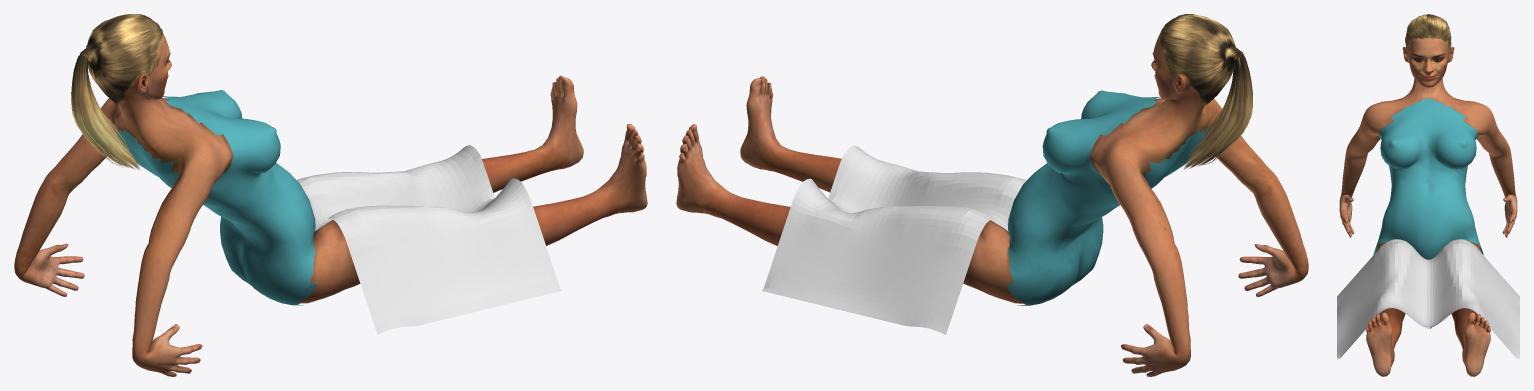
The model's file is kundin_up_k9.glb.
3 renders of one model, left to right at view 1: azimuth 30°, elevation 25°; view 2: azimuth 150°, elevation 25°; view 3: azimuth 270°, elevation 25°, orthographic. The views are drawn at different scales.
Parts seen in each view (by area): view 1: body, robe, top, hair; view 2: body, robe, top, hair; view 3: robe, top, body, hair.
Boxes of the visible parts, bbox=[...] form: body: bbox=[14, 33, 647, 376]; robe: bbox=[297, 145, 561, 334]; top: bbox=[115, 90, 316, 305]; hair: bbox=[71, 14, 163, 169]; body: bbox=[676, 32, 1308, 376]; robe: bbox=[761, 145, 1026, 334]; top: bbox=[1006, 90, 1208, 305]; hair: bbox=[1159, 14, 1252, 169]; robe: bbox=[1337, 239, 1519, 359]; top: bbox=[1373, 98, 1483, 259]; body: bbox=[1339, 37, 1517, 376]; hair: bbox=[1405, 14, 1451, 53].
Bounding box in the file's own units: 1.47 × 0.8231 × 0.62.
6 materials, 5 textured.
